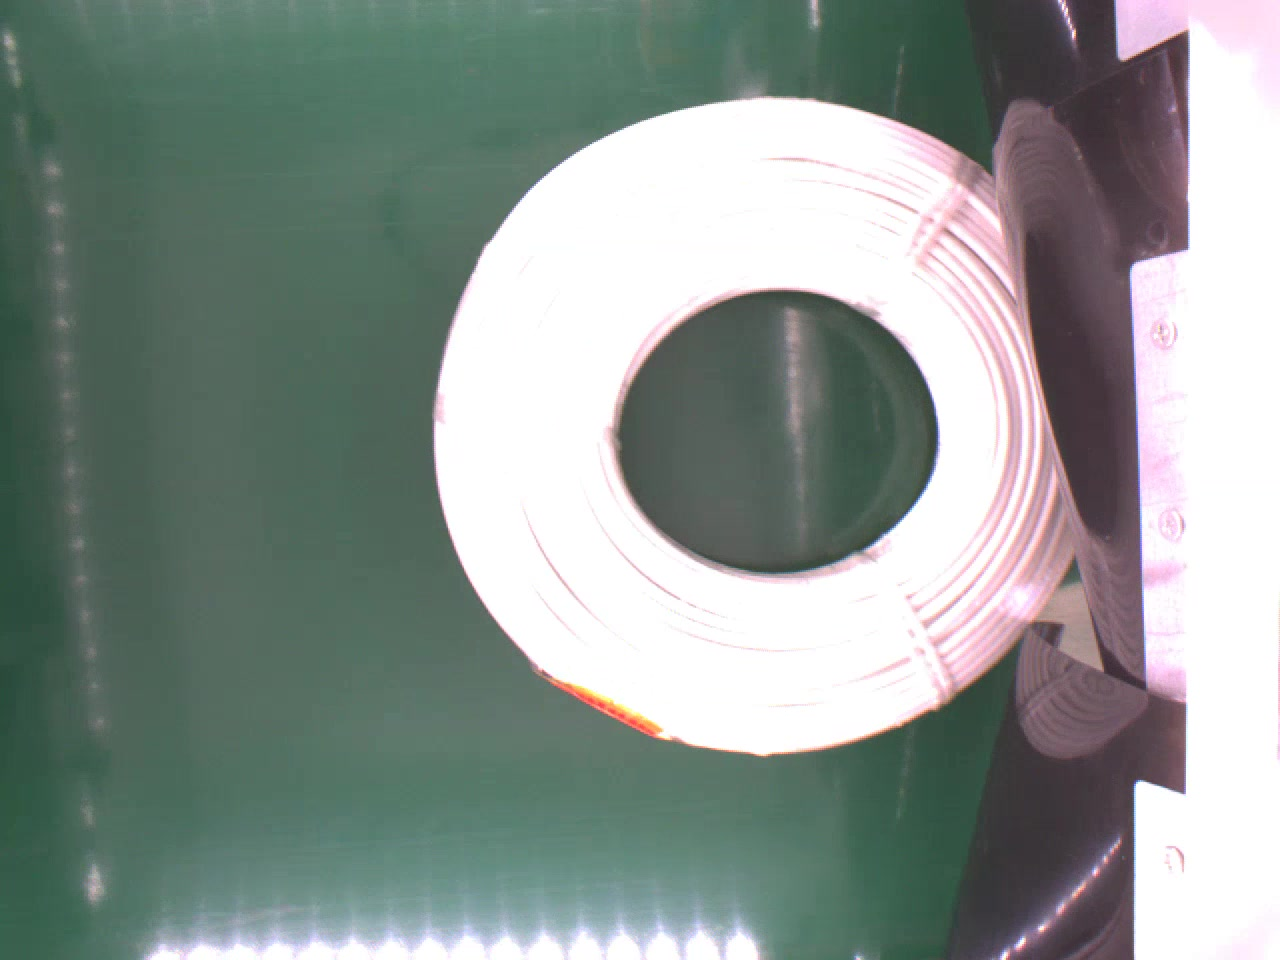white: (430, 90, 1076, 753)
